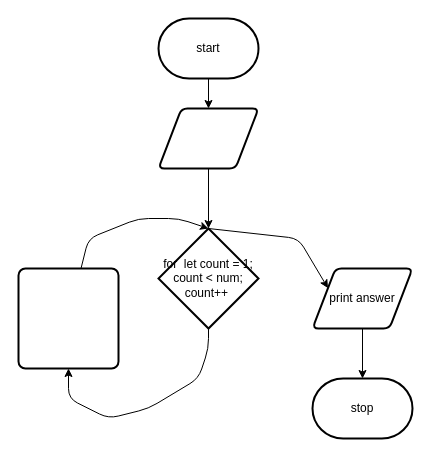
This 430x456 diagram has some shape labels left out. Each missing label, with the centre of its shape:
enter a number: the point at 208,138
sum += count: the point at 68,318
